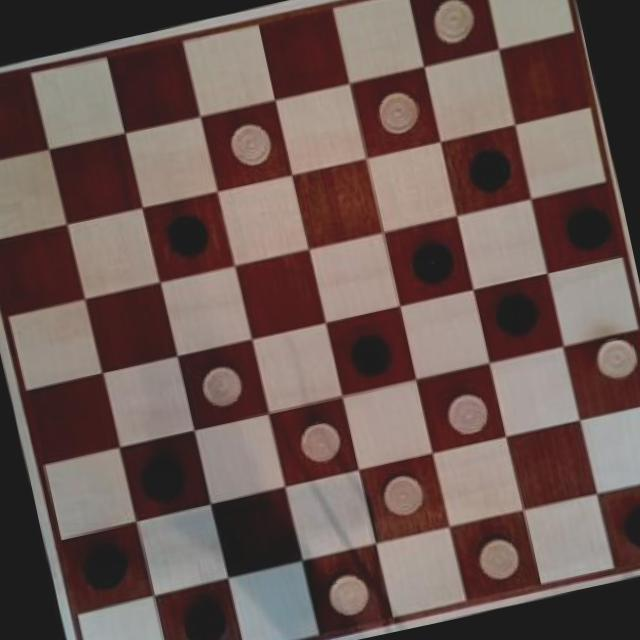BOARD: (0, 0, 640, 640)
black: (552, 192, 618, 258), (128, 442, 194, 504), (486, 284, 548, 346), (72, 534, 132, 594), (167, 590, 238, 640), (342, 322, 402, 381), (402, 233, 460, 293), (162, 206, 217, 265), (462, 142, 518, 195), (614, 496, 640, 555)
white: (434, 378, 499, 447), (368, 464, 434, 524), (368, 78, 429, 142), (217, 112, 275, 175), (291, 412, 348, 473), (320, 565, 375, 623), (193, 357, 250, 411), (422, 0, 486, 48), (470, 532, 524, 588), (593, 329, 640, 385)
